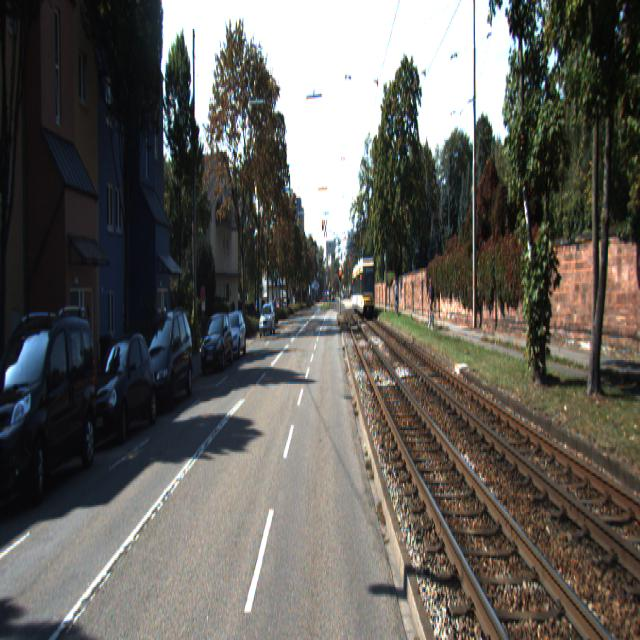Car: (0, 305, 101, 521), (84, 328, 158, 447), (135, 306, 194, 414), (199, 310, 233, 376), (352, 255, 375, 318), (220, 311, 246, 364), (259, 302, 275, 338)
